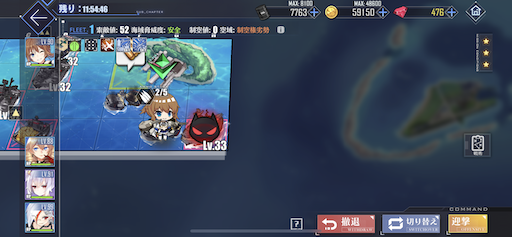boss: (181, 108, 224, 153)
